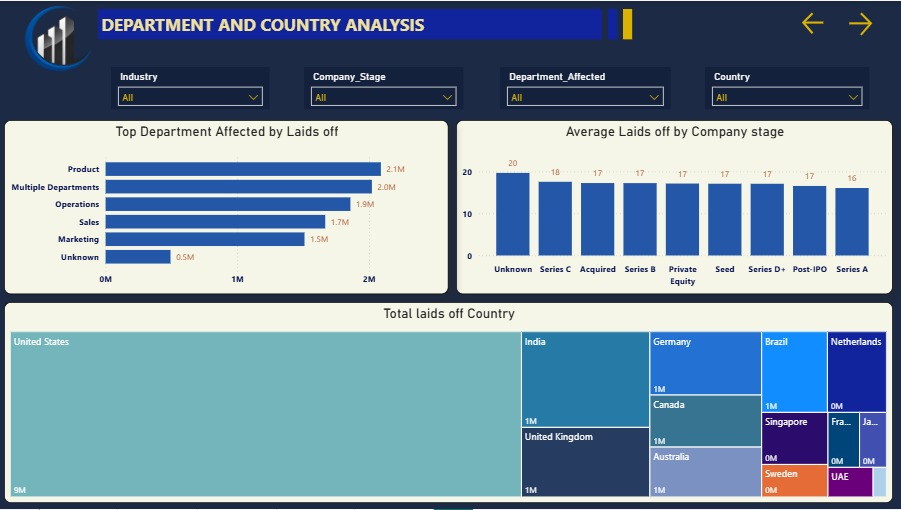

The page's visual inventory and layout, read from the dashboard file:
{"tool":"powerbi","page":{"name":"PAGE 2","canvas":[1280,720],"ordinal":1},"visuals":[{"type":"clusteredColumnChart","title":"Average Laids off by Company stage","fields":{"Category":["tech_layoffs_dataset-1.Company_Stage"],"Y":["tech_layoffs_dataset-1.Avg % laid off"]},"box":[649.1,168.8,618.9,247],"z":1000},{"type":"clusteredBarChart","title":"Top Department Affected by Laids off","fields":{"Category":["tech_layoffs_dataset-1.Department_Affected"],"Y":["tech_layoffs_dataset-1.Total laids_off"]},"box":[8.2,168.8,629.8,247],"z":2000},{"type":"slicer","fields":{"Values":["tech_layoffs_dataset-1.Company_Stage"]},"box":[433.3,92.9,226.2,59.5],"z":3000},{"type":"slicer","fields":{"Values":["tech_layoffs_dataset-1.Industry"]},"box":[160.7,92.9,225,59.5],"z":4000},{"type":"slicer","fields":{"Values":["tech_layoffs_dataset-1.Country"]},"box":[1002.4,92.9,233.3,59.5],"z":5000},{"type":"slicer","fields":{"Values":["tech_layoffs_dataset-1.Department_Affected"]},"box":[711.9,92.9,241.7,59.5],"z":6000},{"type":"textbox","box":[141.7,10.7,714.3,42.9],"z":7000},{"type":"treemap","title":"Total laids off Country","fields":{"Group":["tech_layoffs_dataset-1.Country"],"Values":["tech_layoffs_dataset-1.Total laids_off"]},"box":[8.2,426.8,1259.7,285.4],"z":8000},{"type":"image","box":[26.2,0,115.5,106],"z":10000},{"type":"shape","box":[1191.7,186.9,44,63.1],"z":11000},{"type":"textbox","box":[864.3,10.7,13.1,42.9],"z":11001},{"type":"textbox","box":[885.7,10.7,13.1,42.9],"z":11002},{"type":"actionButton","box":[1200,10.7,67.9,42.9],"z":11003},{"type":"actionButton","box":[1135.7,10.7,64.3,40.5],"z":11004}]}

Visuals, with their boxes in screenshot pixels (x1, y1, x2, y2), scaled from the page's 1280x720 canvas onto the 901x510 screenshot:
"Average Laids off by Company stage" clusteredColumnChart: <region>457, 120, 893, 295</region>
"Top Department Affected by Laids off" clusteredBarChart: <region>6, 120, 449, 295</region>
slicer - tech_layoffs_dataset-1.Company_Stage: <region>305, 66, 464, 108</region>
slicer - tech_layoffs_dataset-1.Industry: <region>113, 66, 271, 108</region>
slicer - tech_layoffs_dataset-1.Country: <region>706, 66, 870, 108</region>
slicer - tech_layoffs_dataset-1.Department_Affected: <region>501, 66, 671, 108</region>
textbox: <region>100, 8, 603, 38</region>
"Total laids off Country" treemap: <region>6, 302, 892, 504</region>
image: <region>18, 0, 100, 75</region>
shape: <region>839, 132, 870, 177</region>
textbox: <region>608, 8, 618, 38</region>
textbox: <region>623, 8, 633, 38</region>
actionButton: <region>845, 8, 892, 38</region>
actionButton: <region>799, 8, 845, 36</region>
